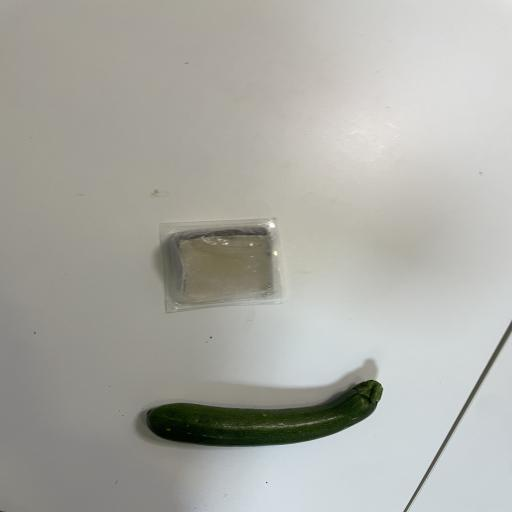courgette: (133, 364, 388, 450)
cured_goat_cheese: (155, 209, 296, 316)
